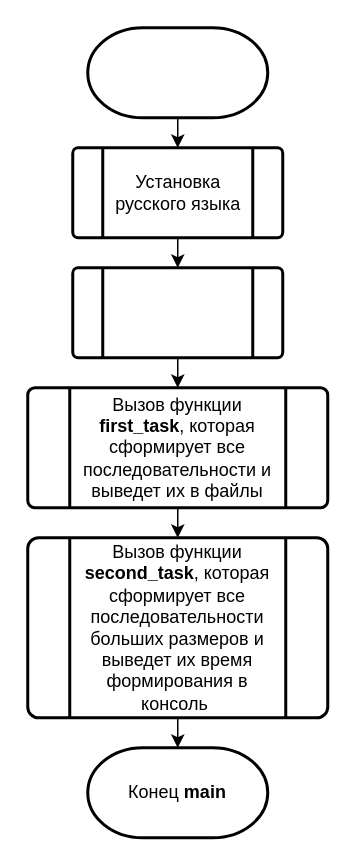
Image size: 354x864. Some labels were removed from this diagram. The shapes that lost their labels are listed below. From the top down, each one's box as (x1, y1, x2, y2) in pixels, then its label:
(86, 26, 268, 118): Начало main
(70, 266, 284, 358): Инициализация генератора случайных чисел
